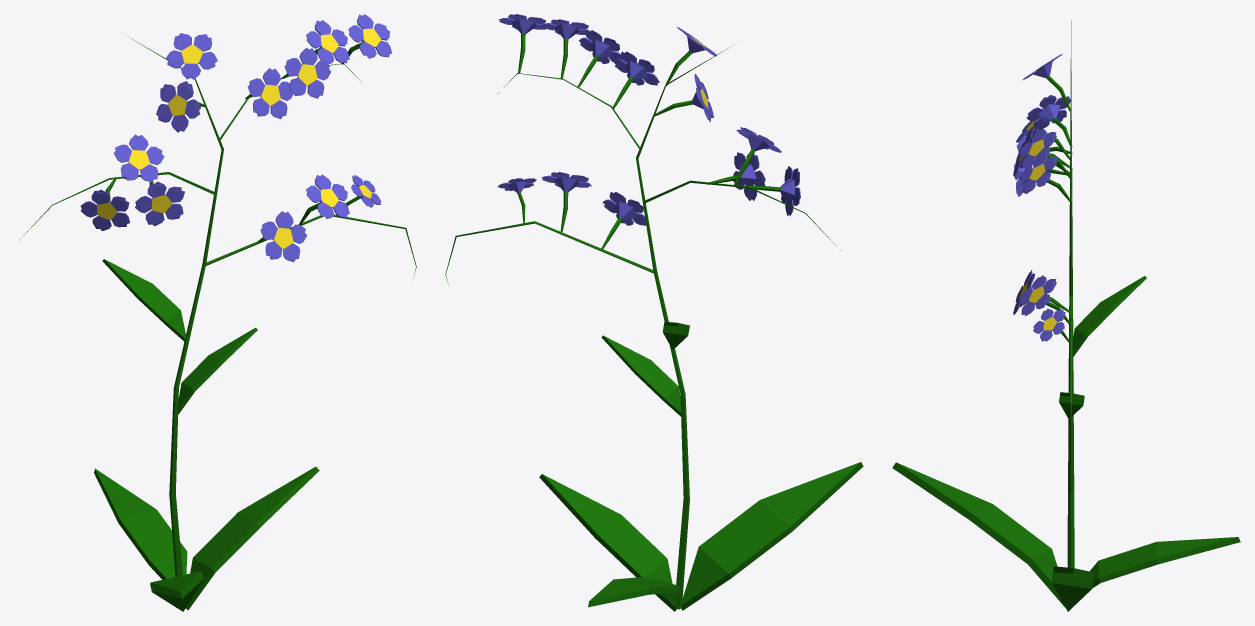
The model's file is moolmangcho.fbx.
The picture shows the model from 3 angles, left to right: view 1: azimuth 30°, elevation 25°; view 2: azimuth 150°, elevation 25°; view 3: azimuth 270°, elevation 25°; orthographic projection. The views are drawn at different scales.
Parts seen in each view (by area): view 1: Cylinder001; view 2: Cylinder001; view 3: Cylinder001.
Part boxes in pixels (box(x1,y1,x2,y2)): Cylinder001: box(19, 14, 416, 611); Cylinder001: box(445, 14, 863, 611); Cylinder001: box(892, 20, 1240, 611).
Size of the model in its own units: 28.92 by 40.91 by 22.83.
